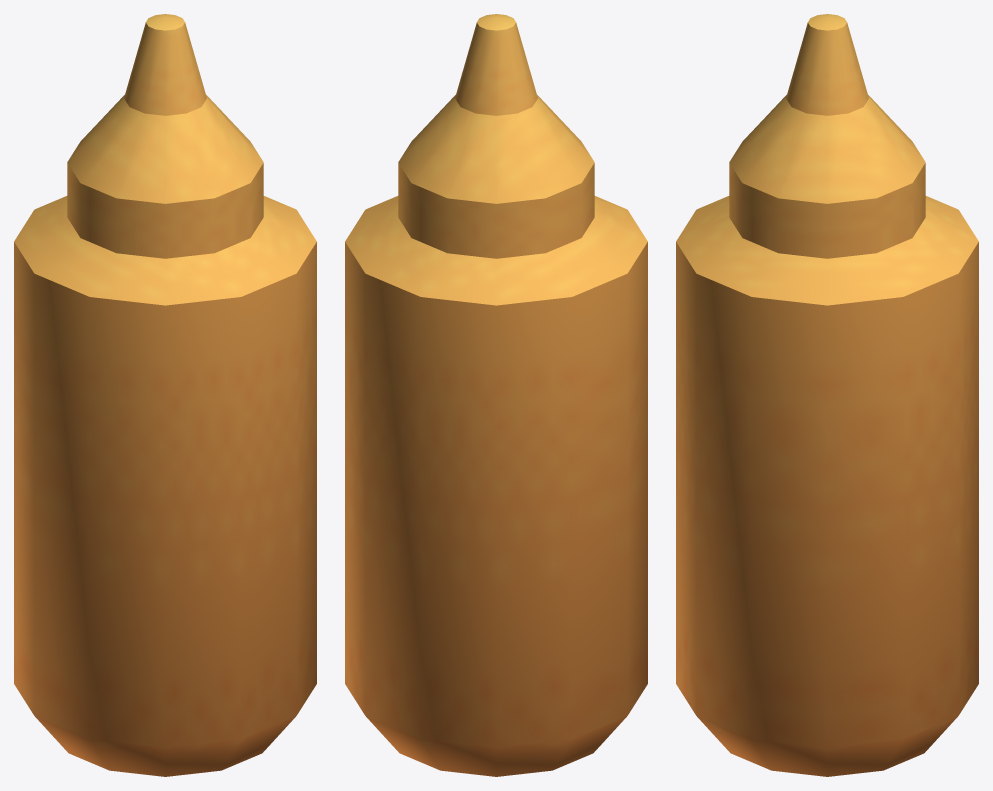
Rendered from mustard.gltf.
The picture shows the model from 3 angles, left to right: view 1: azimuth 30°, elevation 25°; view 2: azimuth 150°, elevation 25°; view 3: azimuth 270°, elevation 25°; orthographic projection.
Parts seen in each view (by area): view 1: mustard; view 2: mustard; view 3: mustard.
Boxes of the visible parts, left/top/right/bottom form: mustard: left=14, top=14, right=316, bottom=776; mustard: left=345, top=14, right=647, bottom=776; mustard: left=676, top=14, right=978, bottom=776.
Bounding box in the file's own units: 0.3 × 0.7785 × 0.3.
1 material, 1 textured.
